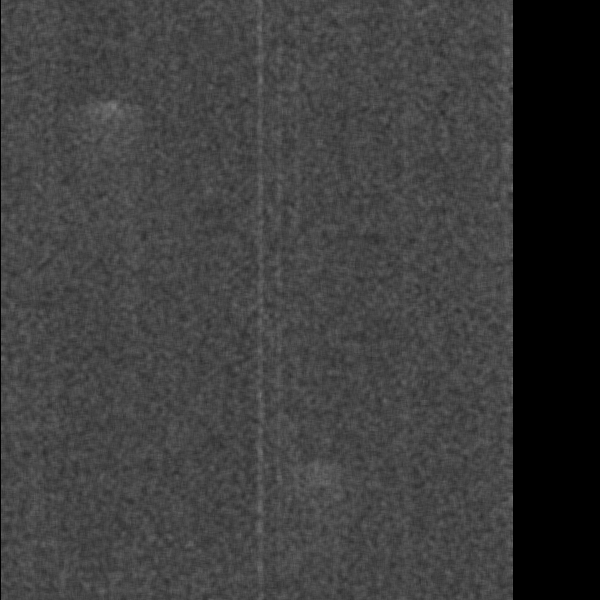spark: (98, 140, 135, 235), (402, 386, 441, 455), (406, 1, 450, 37), (1, 530, 27, 577)
